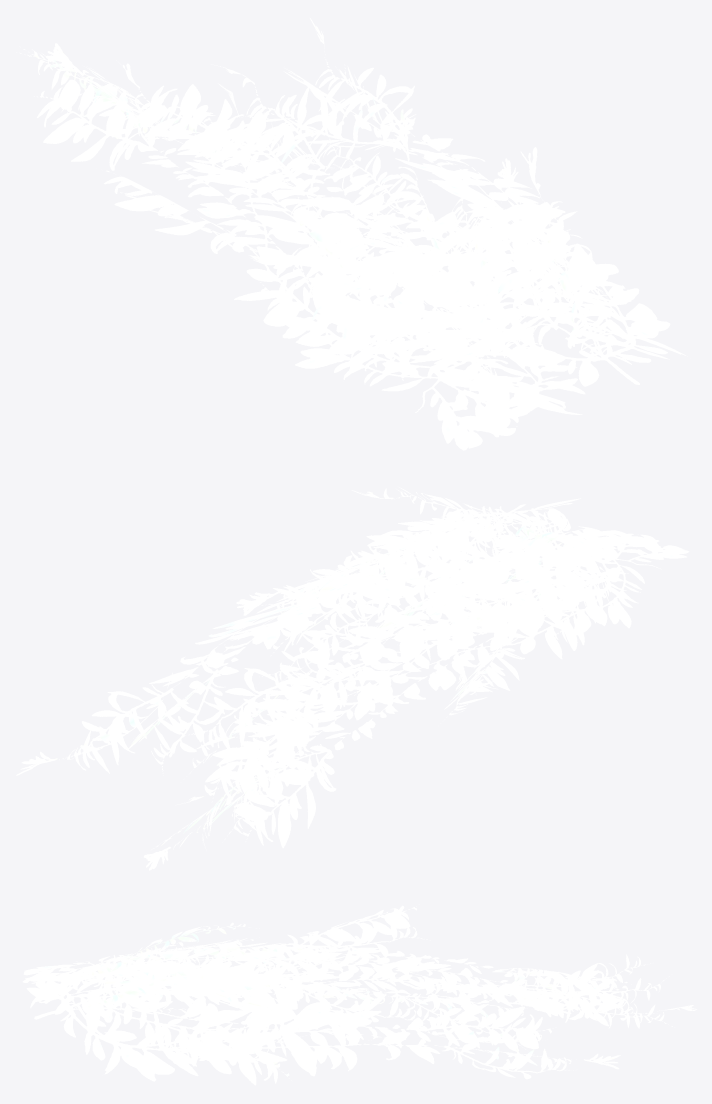
The picture shows the model from 3 angles, top to bottom: view 1: azimuth 30°, elevation 25°; view 2: azimuth 150°, elevation 25°; view 3: azimuth 270°, elevation 25°; orthographic projection. The views are drawn at different scales.
Visible parts, largest first — view 1: SM_BM_Climbing_A_02_LOD0; view 2: SM_BM_Climbing_A_02_LOD0; view 3: SM_BM_Climbing_A_02_LOD0.
Boxes of the visible parts, x1,y1,x2,y2 form: SM_BM_Climbing_A_02_LOD0: (16,18,687,450); SM_BM_Climbing_A_02_LOD0: (16,487,689,870); SM_BM_Climbing_A_02_LOD0: (22,904,696,1085).
Size of the model in its own units: 1.55 by 0.6707 by 3.52.
Materials: 1 (1 with a texture image).
